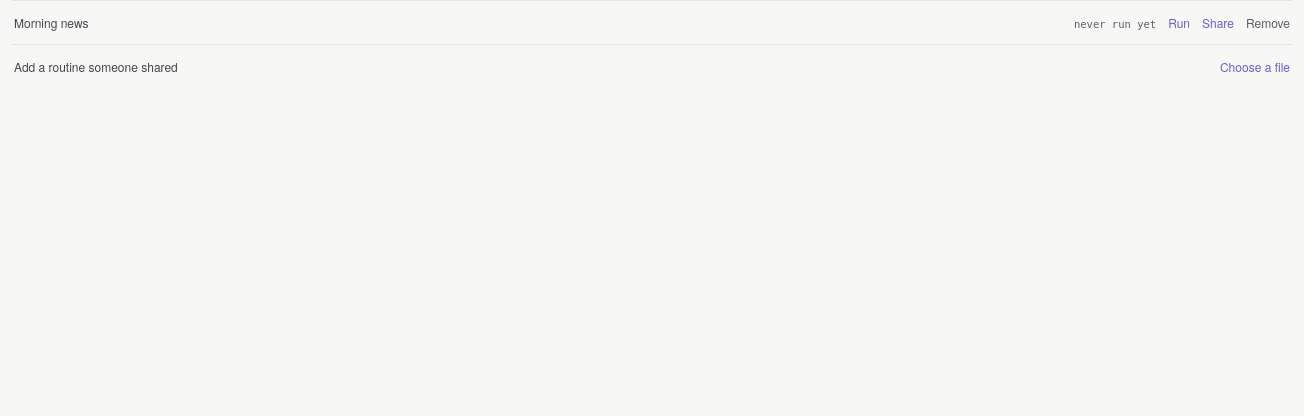
the notes that ride on a preview › says when the routine will land switched off
Click the button with aria-label "Add a routine someone shared with you": (1255, 66) [1220,58,1290,75]
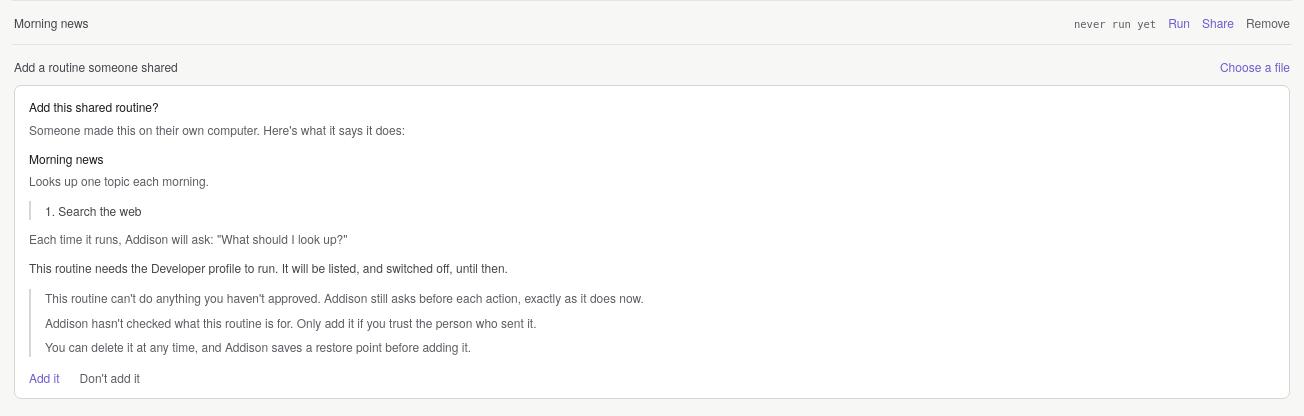
Result: the text "This routine needs the Developer profile to run. It will be listed, and switched off, until then." is shown at [29,259,508,276]
